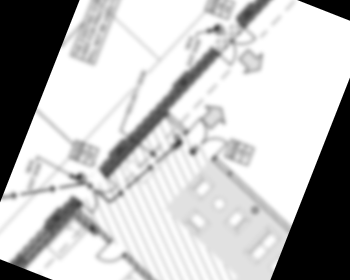door: (92, 234, 130, 271)
double door: (212, 18, 260, 71), (180, 115, 233, 163), (76, 169, 122, 221)
wall: (50, 205, 200, 280)
